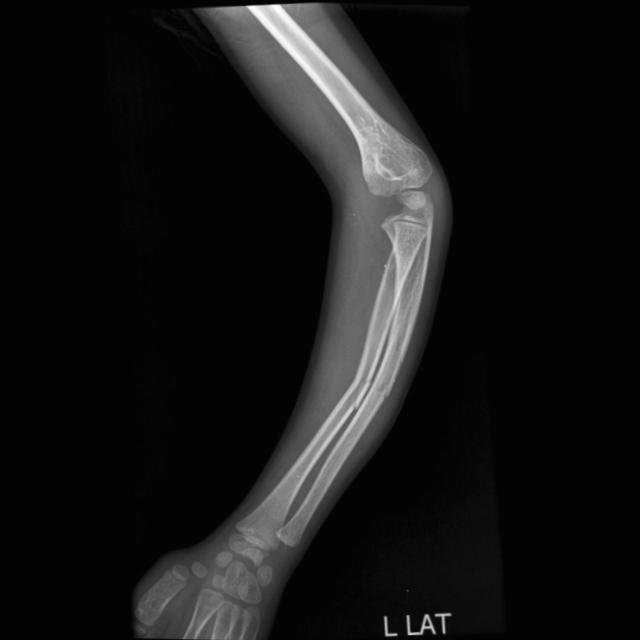Oblique Displaced: (346, 373, 363, 413)
Transverse Displaced: (371, 376, 393, 403)
